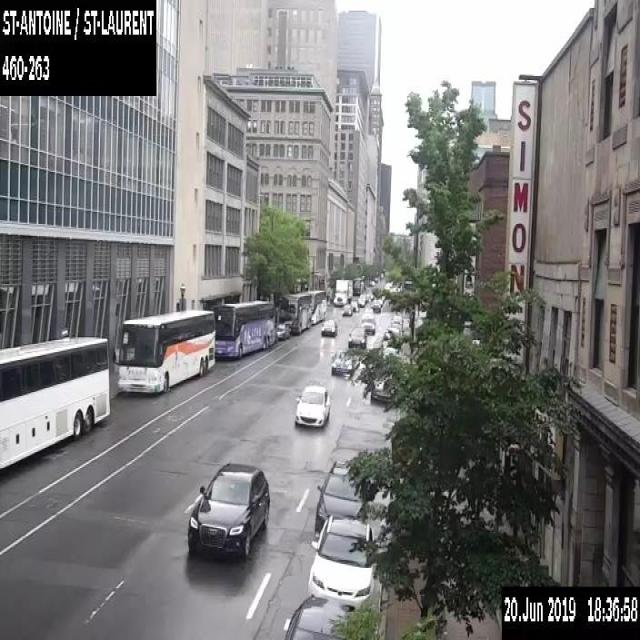bus: (0, 335, 110, 469), (111, 308, 215, 393), (210, 298, 276, 358), (278, 292, 310, 333), (298, 288, 326, 324)
vehicle: (187, 461, 269, 556), (308, 512, 377, 612), (314, 459, 368, 534), (282, 594, 352, 638), (294, 384, 329, 428), (331, 350, 353, 375), (332, 278, 352, 305), (369, 380, 392, 401), (348, 325, 367, 348), (382, 340, 400, 357), (360, 312, 375, 332), (321, 318, 337, 336), (276, 322, 291, 338), (384, 326, 399, 340), (352, 277, 363, 295), (390, 314, 403, 328), (341, 304, 352, 315), (350, 298, 359, 310), (372, 302, 381, 311), (357, 297, 364, 306), (359, 293, 366, 302)
